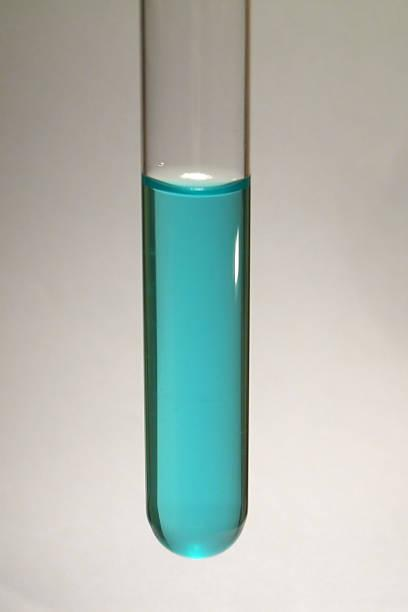Test tube: (106, 6, 262, 562)
